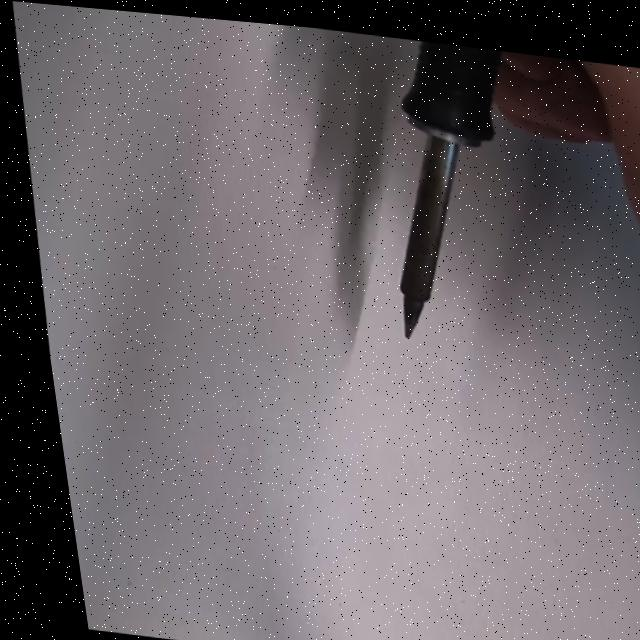soldering_iron: (356, 33, 544, 356)
